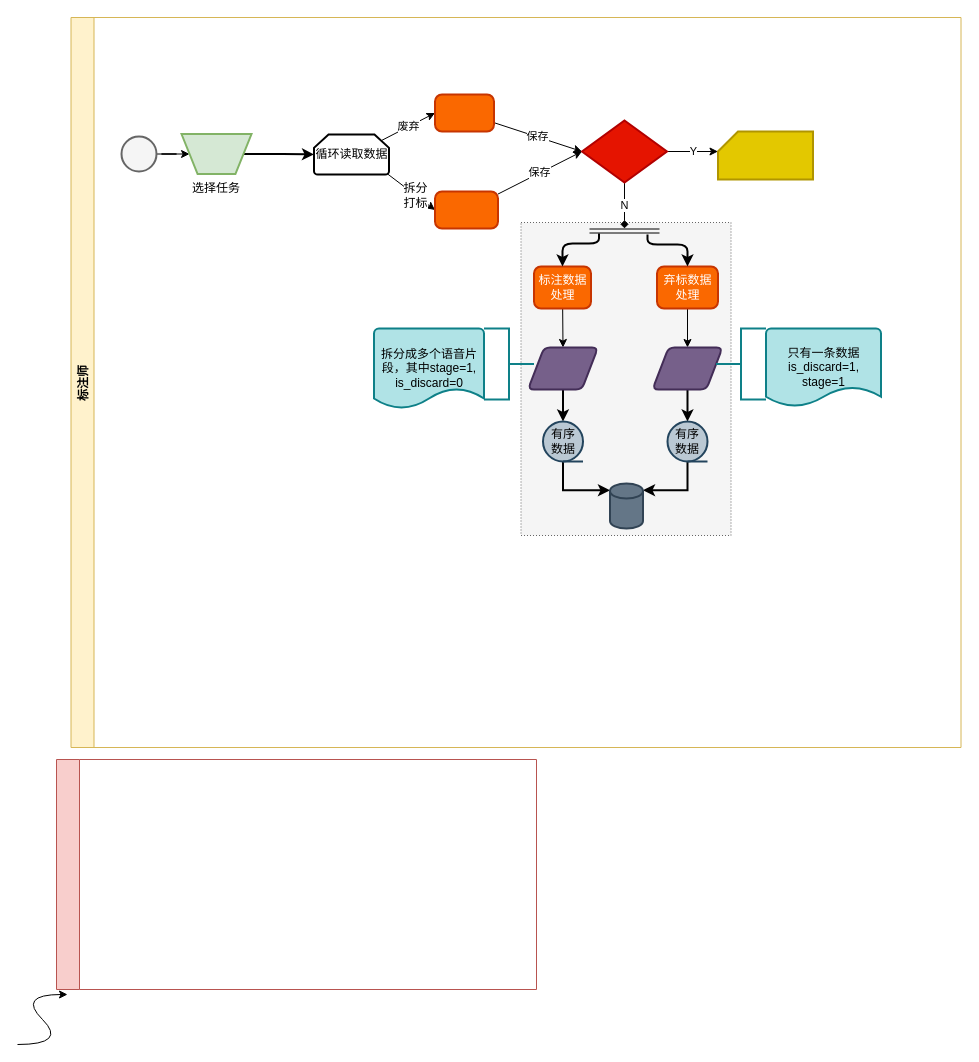
The diagram is 979 pixels wide and 1062 high, and some of its shapes have lost their labels. Each missing label, with the centre of its shape:
"已提交质检， 不能修改" goes at pixel 765 155.
"弃标语音" goes at pixel 464 112.
"提交质检？" goes at pixel 624 151.
"标注语音" goes at pixel 466 209.
"质检员" goes at pixel 296 874.
